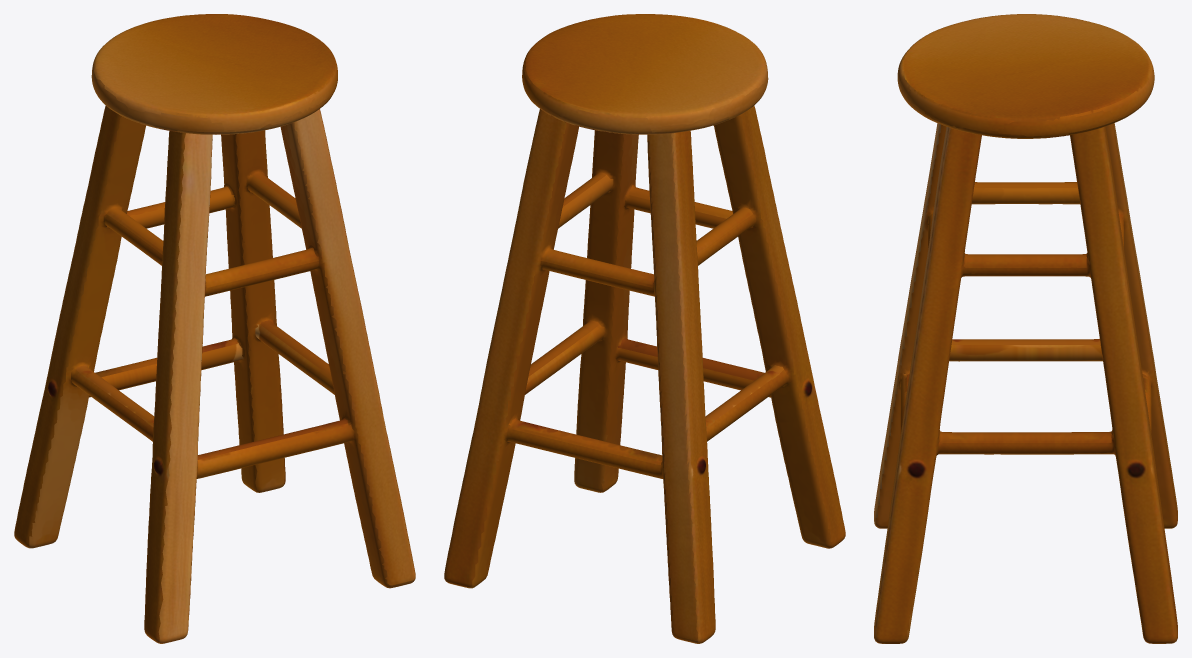
Rendered from stool__stool#4.glb.
The picture shows the model from 3 angles, left to right: view 1: azimuth 30°, elevation 25°; view 2: azimuth 150°, elevation 25°; view 3: azimuth 270°, elevation 25°; orthographic projection. The views are drawn at different scales.
Parts seen in each view (by area): view 1: tmpjzdfc5mk.ply; view 2: tmpjzdfc5mk.ply; view 3: tmpjzdfc5mk.ply.
Part boxes in pixels (box(x1,y1,x2,y2)): tmpjzdfc5mk.ply: box(14, 14, 415, 643); tmpjzdfc5mk.ply: box(444, 14, 845, 643); tmpjzdfc5mk.ply: box(874, 14, 1177, 643).
Size of the model in its own units: 1.08 by 1.99 by 1.06.
Materials: 1 (1 with a texture image).
